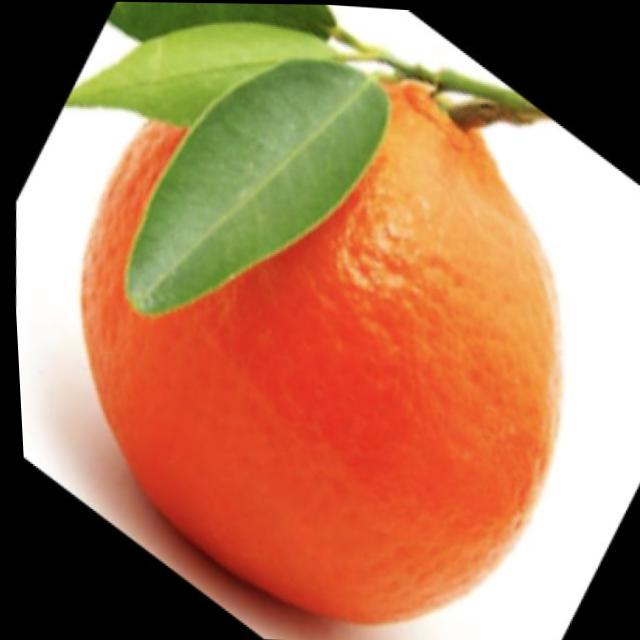Orange: (51, 51, 586, 636)
